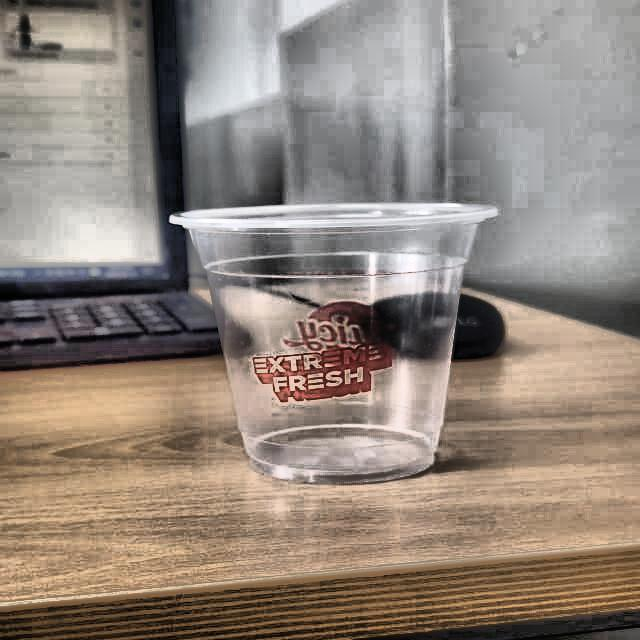plastic cup: (165, 199, 502, 480)
